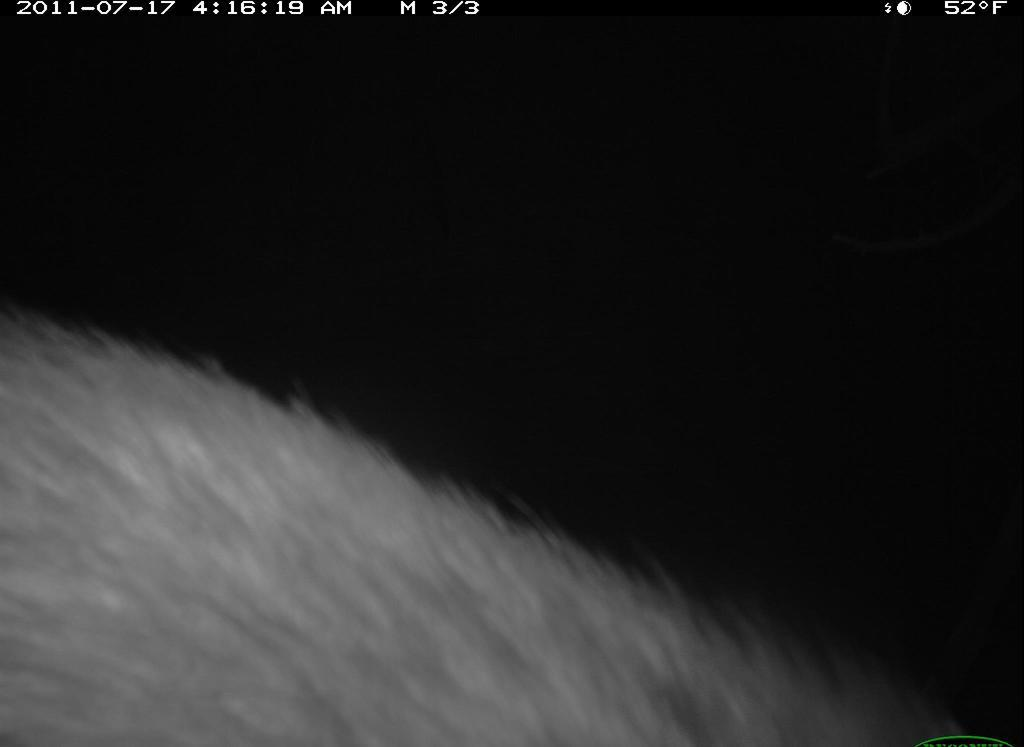raccoon: (2, 308, 994, 747)
